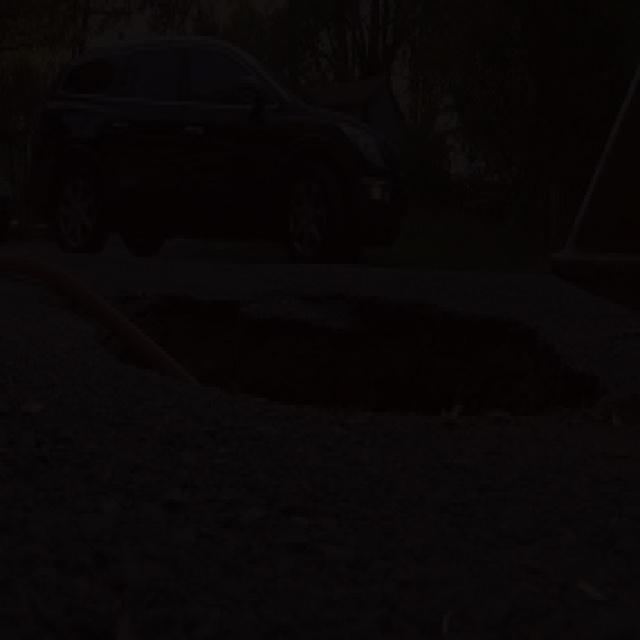Pothole: (82, 272, 603, 433)
